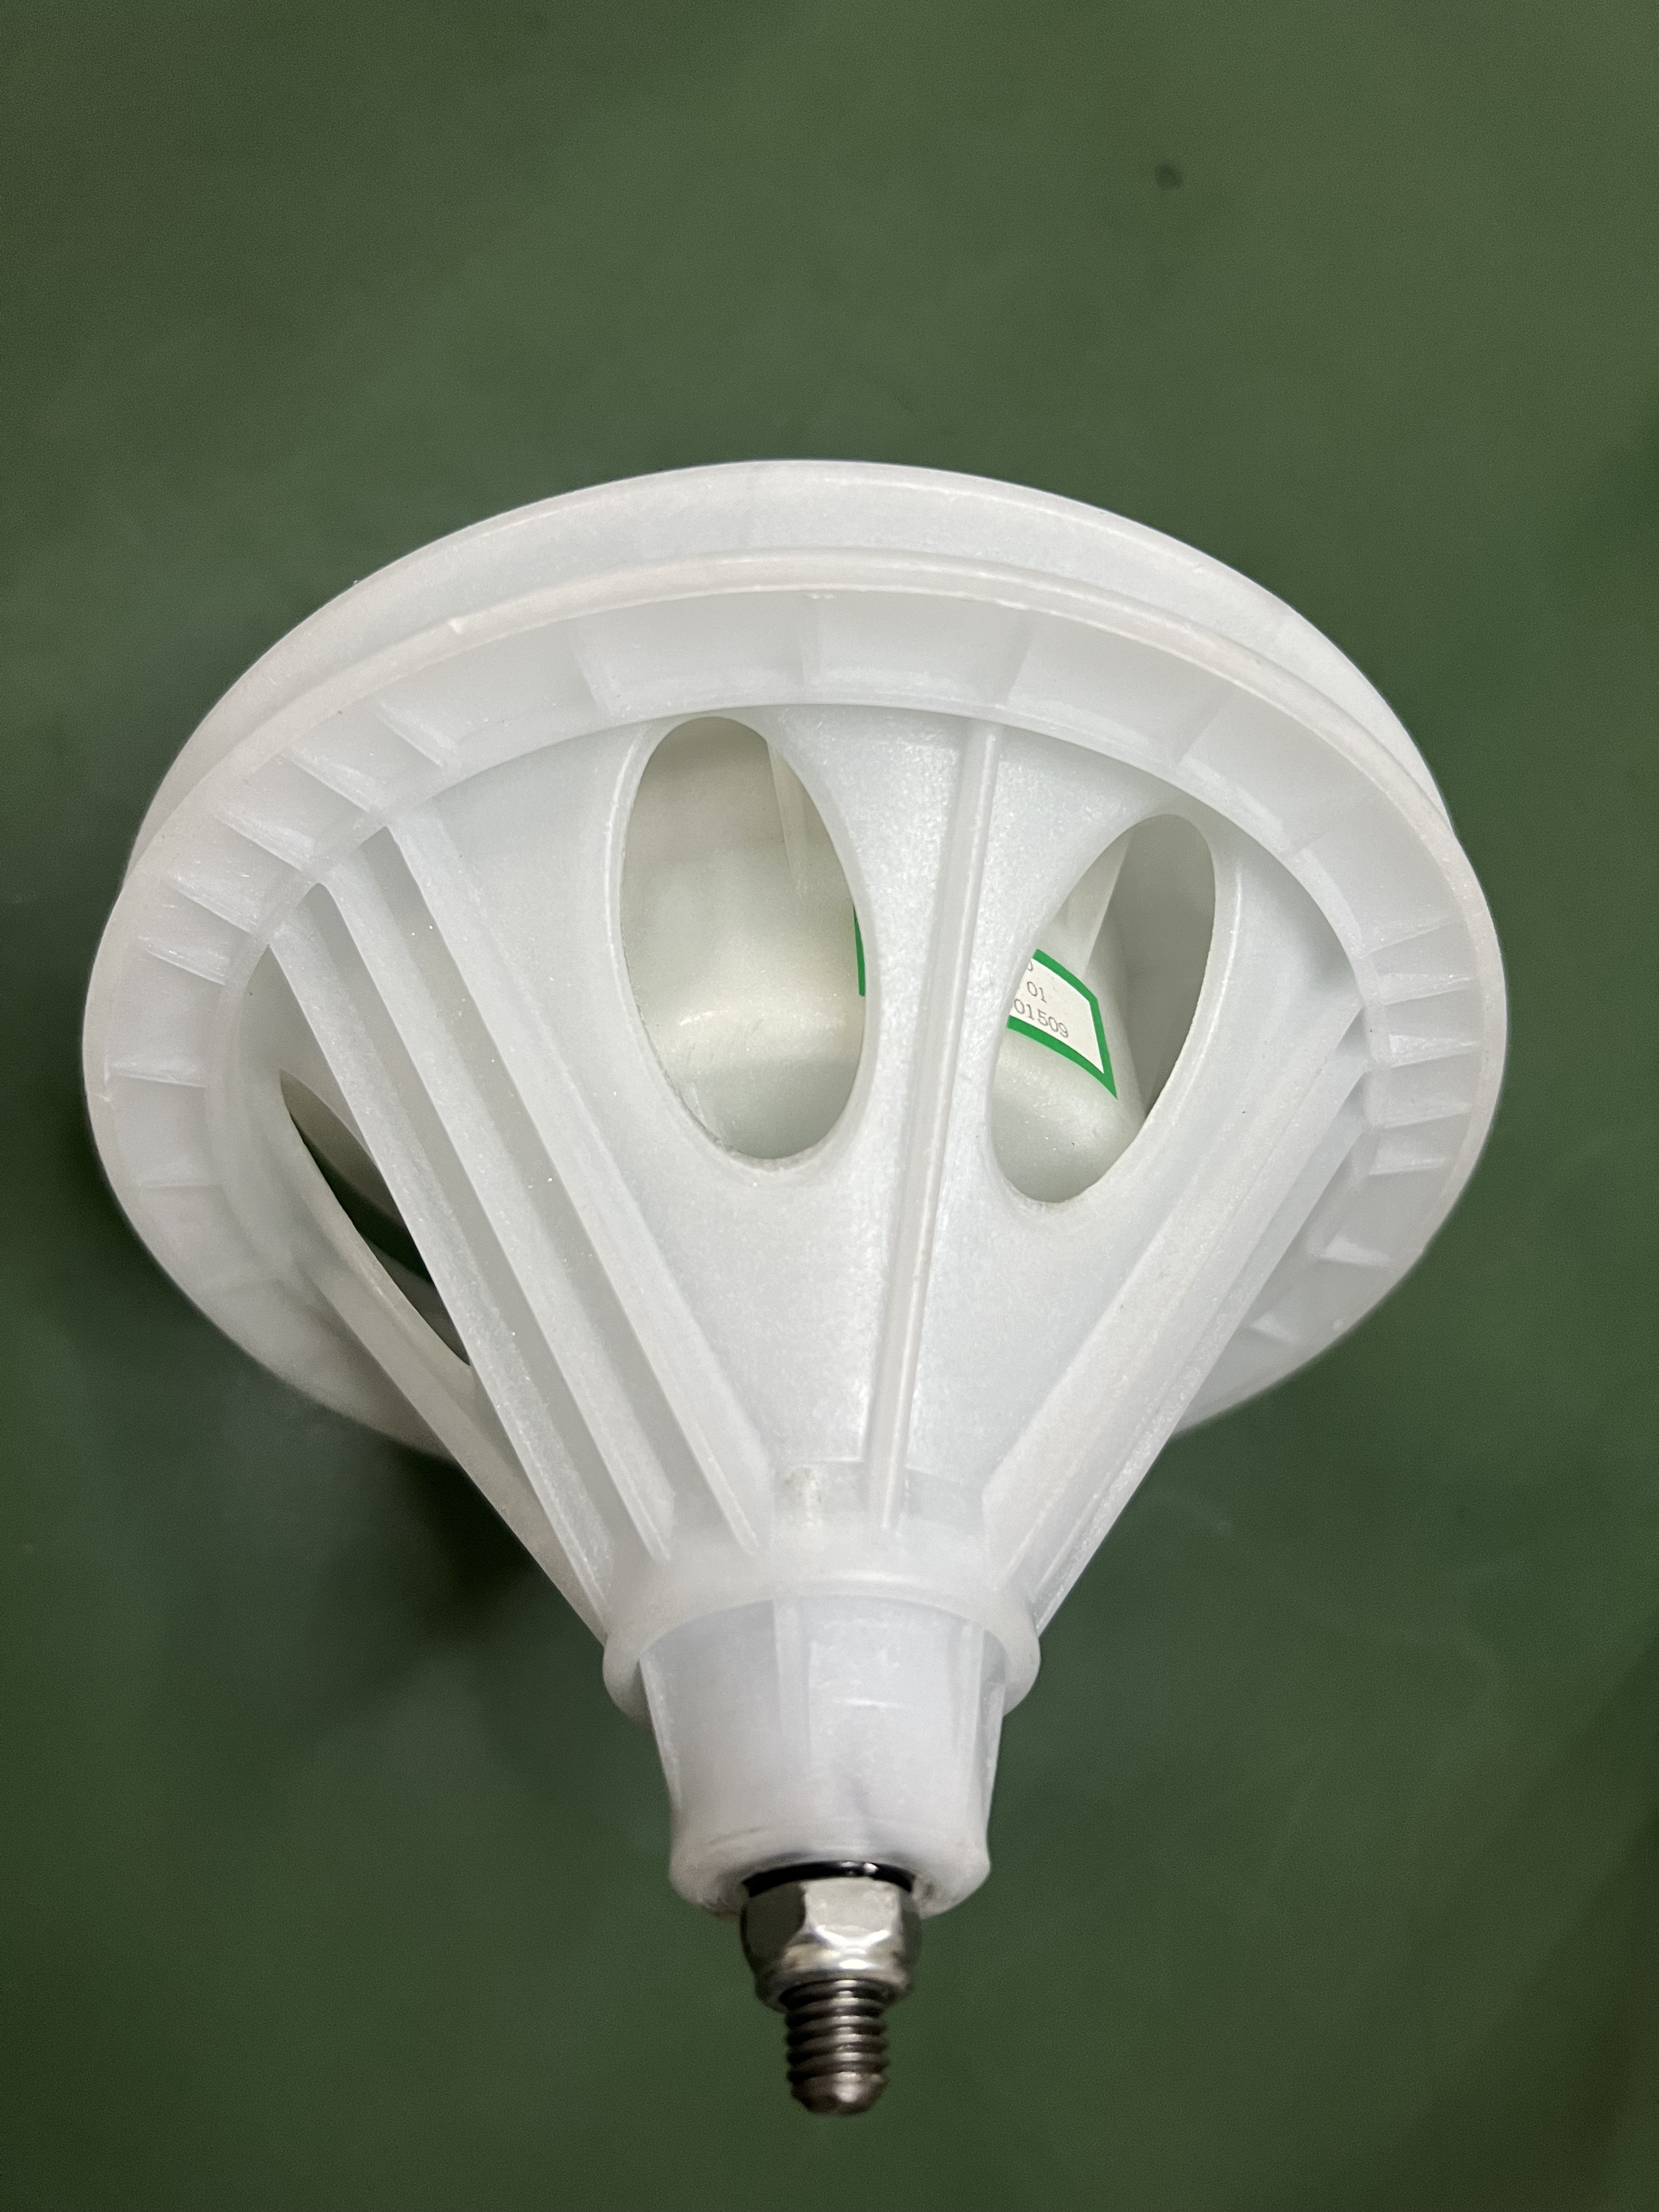gear_box_ovul: (54, 451, 1513, 2130)
